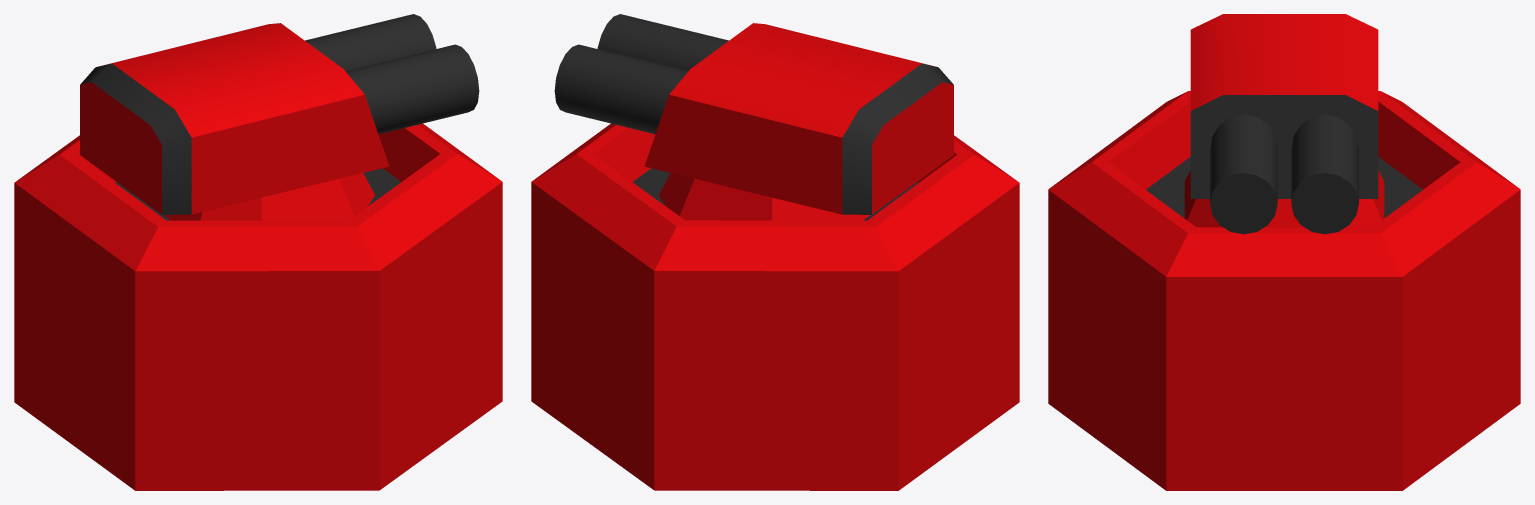
Rendered from SM_Module_Turret_BO.fbx.
The picture shows the model from 3 angles, left to right: view 1: azimuth 30°, elevation 25°; view 2: azimuth 150°, elevation 25°; view 3: azimuth 270°, elevation 25°; orthographic projection. The views are drawn at different scales.
Visible parts, largest first — view 1: SM_Module_TurretBase_BO, SM_Module_TurretHead_BO; view 2: SM_Module_TurretBase_BO, SM_Module_TurretHead_BO; view 3: SM_Module_TurretBase_BO, SM_Module_TurretHead_BO.
Boxes of the visible parts, box(x1,y1,x2,y2) form: SM_Module_TurretBase_BO: box(14, 123, 502, 490); SM_Module_TurretHead_BO: box(80, 14, 479, 214); SM_Module_TurretBase_BO: box(531, 123, 1019, 490); SM_Module_TurretHead_BO: box(554, 14, 953, 214); SM_Module_TurretBase_BO: box(1048, 91, 1520, 490); SM_Module_TurretHead_BO: box(1190, 14, 1378, 234).
Size of the model in its own units: 3.5 by 3.13 by 4.
